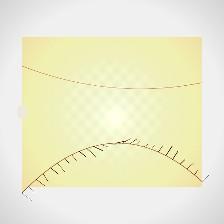corneal_ulcer: (82, 88, 137, 132)
